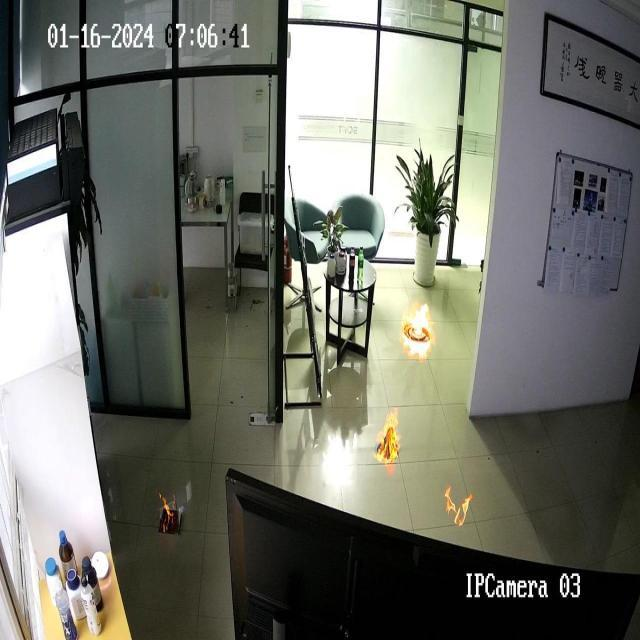smoke: (399, 296, 436, 362), (373, 408, 402, 475), (443, 484, 474, 530), (156, 491, 178, 528)
